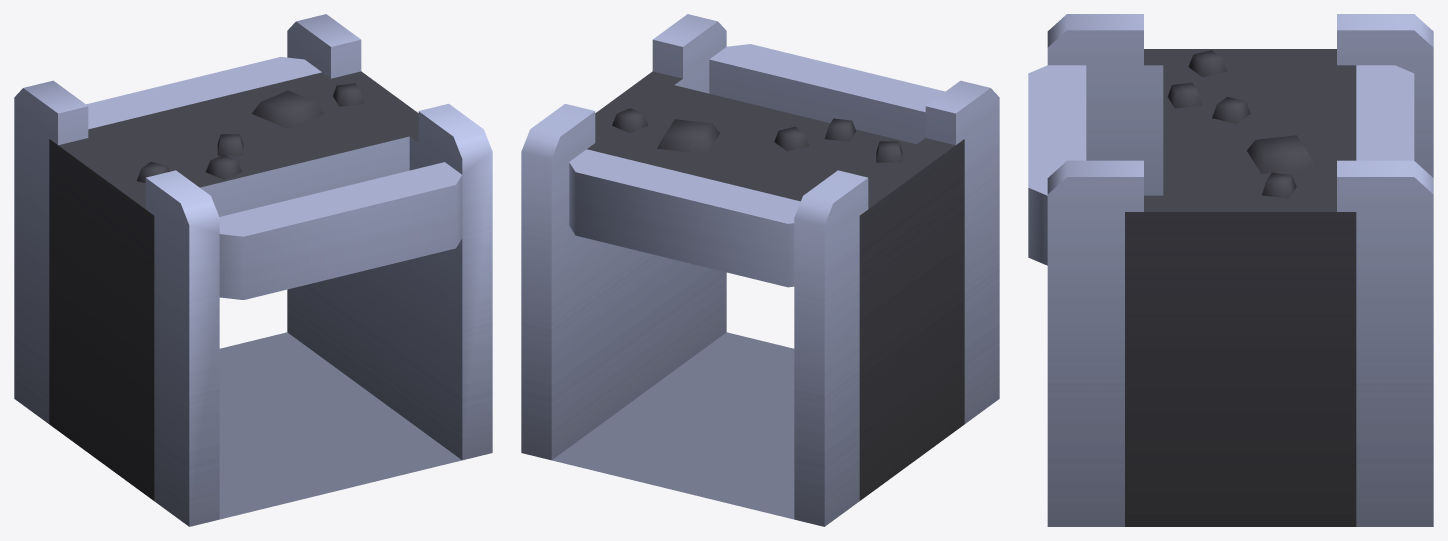
Rendered from wall-opening.fbx.
The picture shows the model from 3 angles, left to right: view 1: azimuth 30°, elevation 25°; view 2: azimuth 150°, elevation 25°; view 3: azimuth 270°, elevation 25°; orthographic projection. The views are drawn at different scales.
Parts seen in each view (by area): view 1: wall-opening; view 2: wall-opening; view 3: wall-opening.
Boxes of the visible parts, x1,y1,x2,y2 form: wall-opening: (14, 14, 492, 526); wall-opening: (521, 14, 999, 526); wall-opening: (1028, 14, 1433, 526).
Size of the model in its own units: 100 by 100 by 105.
